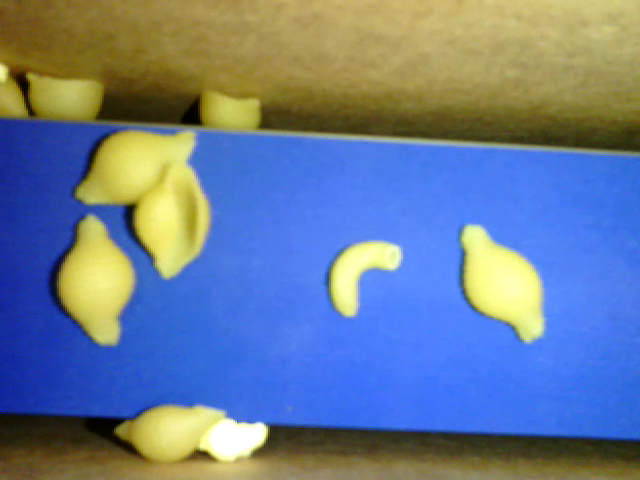elbow: (330, 240, 403, 318)
shell: (458, 222, 547, 344), (56, 215, 134, 348), (73, 127, 198, 204), (133, 160, 210, 279), (116, 401, 228, 462), (26, 71, 102, 122), (197, 85, 261, 132)
